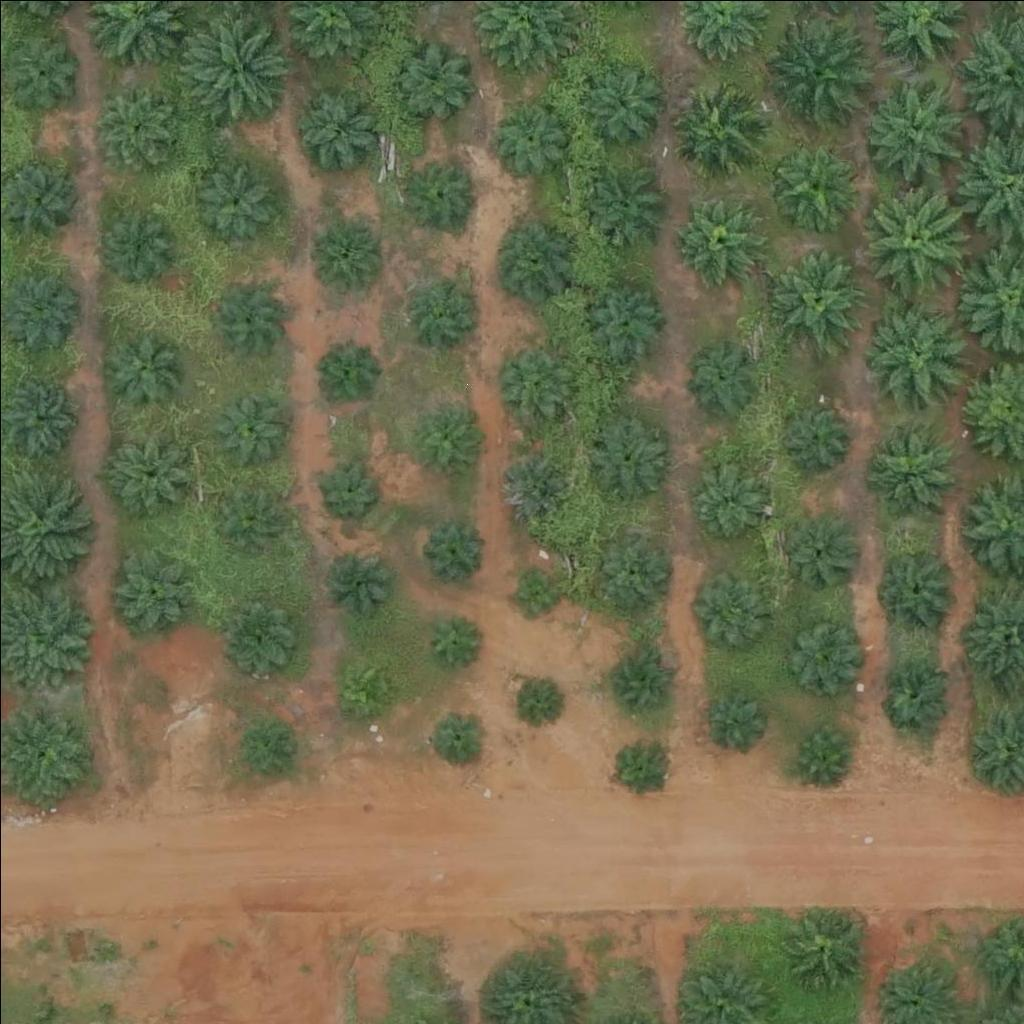Kelapa_Sawit: (851, 174, 976, 300), (180, 11, 293, 124), (763, 13, 875, 127), (864, 300, 964, 400), (770, 249, 870, 349), (667, 73, 767, 173), (862, 81, 962, 181), (186, 153, 274, 242), (582, 414, 670, 502), (487, 214, 575, 302), (776, 906, 864, 994), (867, 422, 955, 510), (578, 274, 666, 362), (90, 82, 178, 170), (390, 37, 478, 125), (769, 137, 857, 225), (296, 83, 383, 172), (873, 543, 960, 631), (674, 193, 761, 281), (579, 155, 666, 243), (577, 57, 664, 145), (691, 464, 766, 540), (781, 516, 856, 592), (776, 397, 851, 473), (687, 341, 762, 417), (208, 483, 283, 559), (224, 593, 299, 669), (110, 432, 185, 508), (881, 655, 956, 731), (115, 552, 190, 628), (783, 614, 858, 689), (690, 572, 765, 647), (592, 528, 667, 603), (398, 152, 473, 227), (410, 268, 485, 343), (209, 277, 284, 352), (104, 205, 179, 280), (102, 333, 177, 408), (208, 393, 283, 468), (500, 342, 575, 417), (493, 443, 568, 518), (321, 538, 396, 613), (307, 448, 382, 523), (309, 334, 384, 409), (306, 210, 381, 285), (2, 31, 77, 106), (492, 94, 567, 169), (610, 736, 673, 799), (609, 647, 672, 710), (412, 407, 475, 470), (335, 652, 398, 715), (243, 714, 306, 777), (791, 720, 853, 783), (701, 687, 763, 750), (426, 705, 488, 768), (422, 605, 484, 668), (422, 518, 484, 581), (508, 673, 558, 724), (509, 567, 559, 618)
